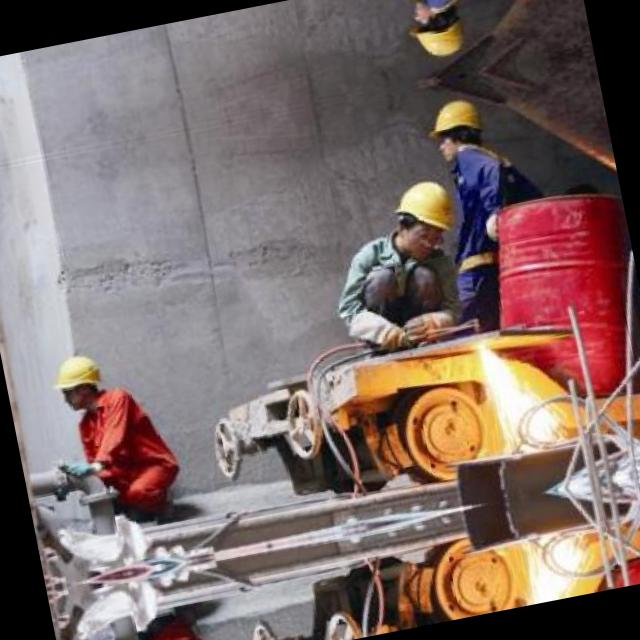helmet: (377, 168, 468, 263), (418, 90, 492, 168), (398, 0, 471, 65), (46, 346, 110, 417), (339, 0, 419, 7)
